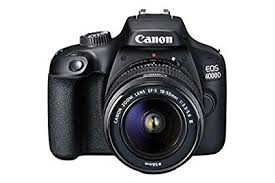camera: (24, 17, 259, 176)
